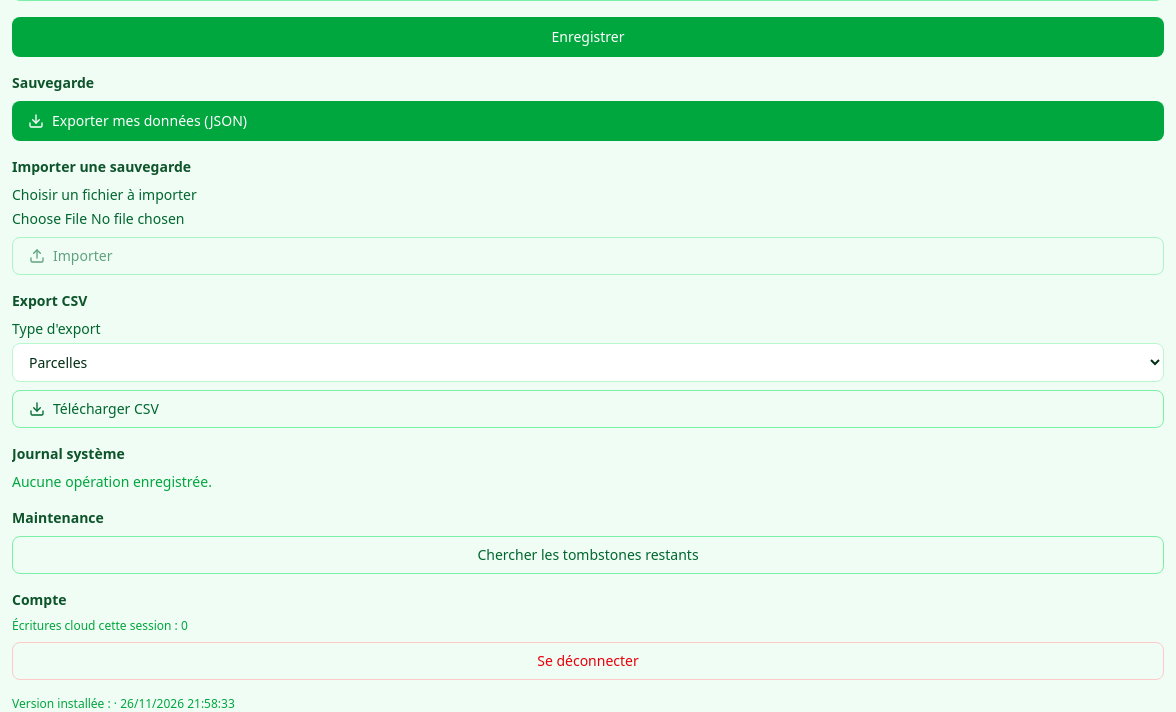
Test: SettingsPage › recherche les tombstones restants et affiche "aucun" si rien a purger
(page scrolled)
Click the button "Chercher les tombstones restants". click: point(588, 555)
box: [12, 536, 1164, 574]
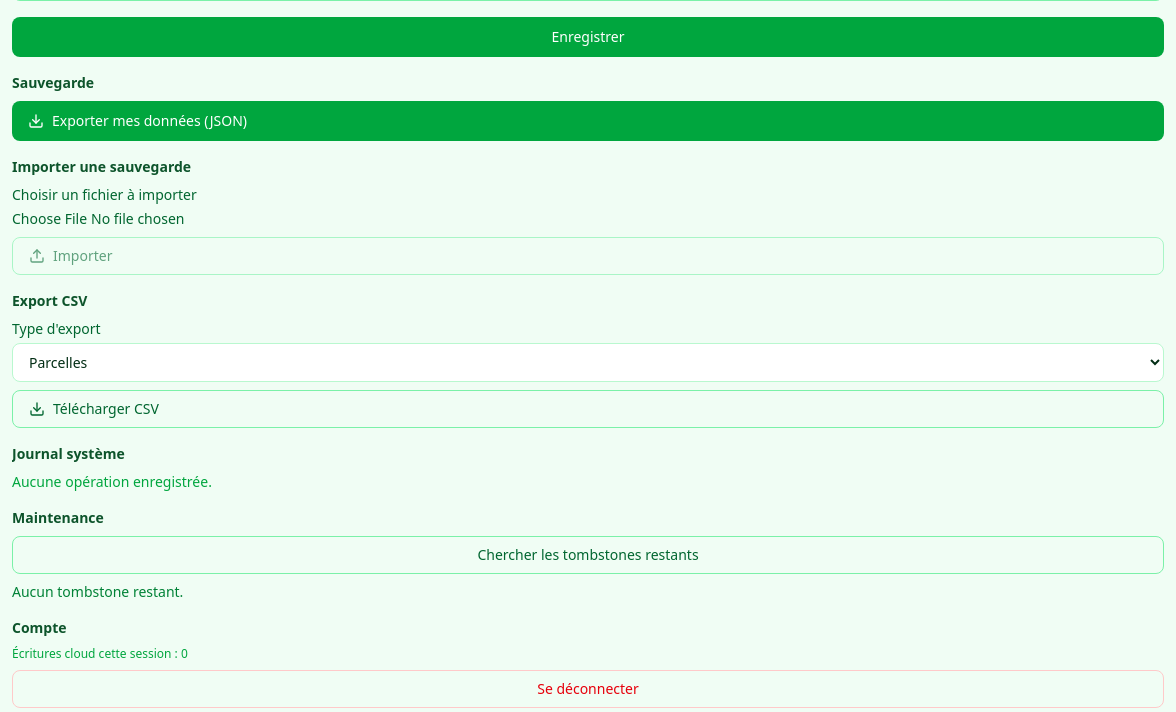
Now the text "Aucun tombstone restant." is shown, box [12, 582, 183, 601]
